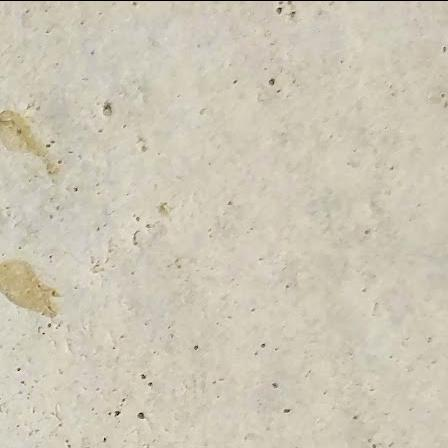spalling: (101, 98, 112, 116)
